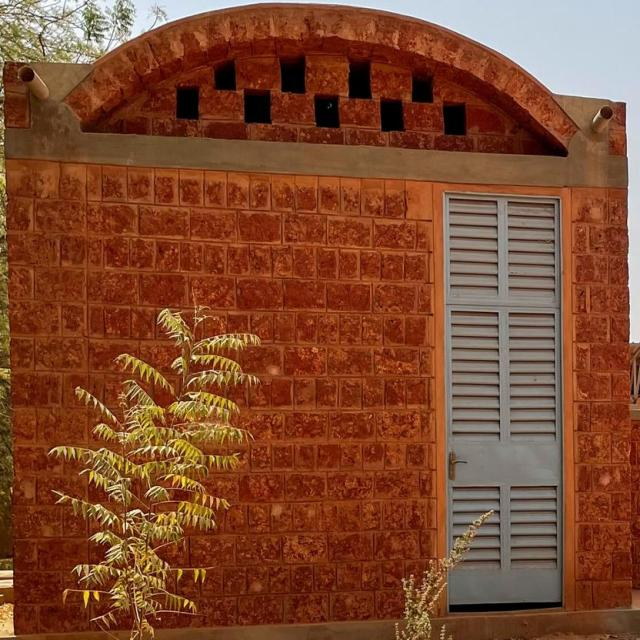door: (441, 188, 562, 607)
plant: (44, 305, 268, 639)
wall: (5, 1, 628, 622)
